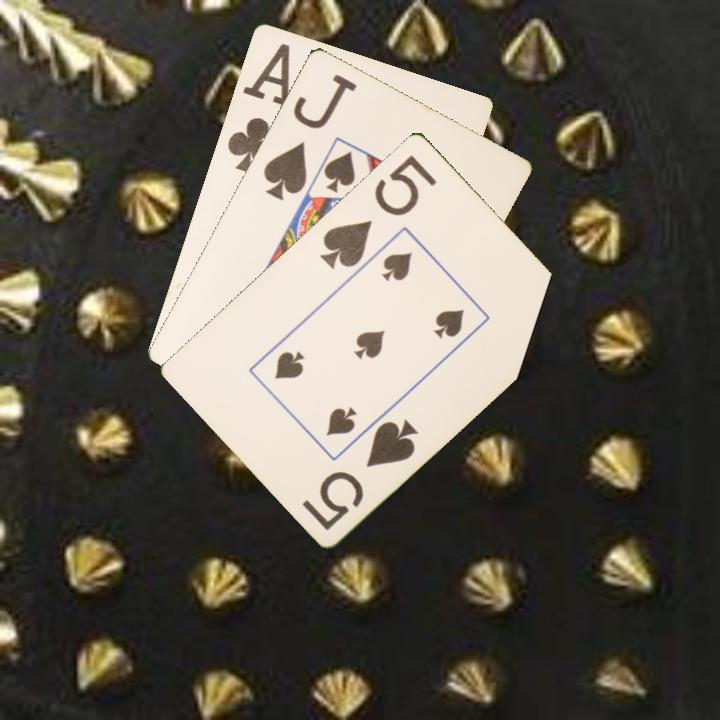5s: (316, 150, 440, 272), (298, 415, 421, 533)
Ac: (223, 39, 295, 177)
Js: (259, 70, 360, 204)
